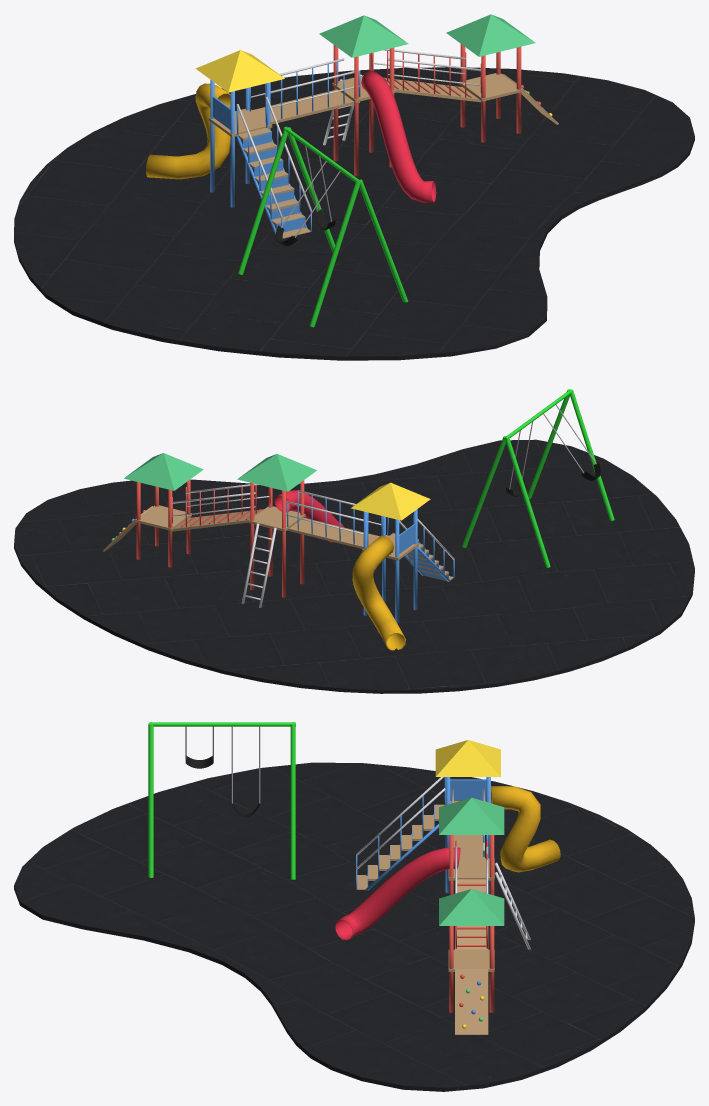
The model's file is JuegosConPiso.fbx.
3 renders of one model, top to bottom at view 1: azimuth 30°, elevation 25°; view 2: azimuth 150°, elevation 25°; view 3: azimuth 270°, elevation 25°, orthographic. The views are drawn at different scales.
Visible parts, largest first — view 1: Puente_AB_baluster; view 2: Puente_AB_baluster; view 3: Puente_AB_baluster.
Boxes of the visible parts, bbox=[...] form: Puente_AB_baluster: bbox=[14, 14, 694, 360]; Puente_AB_baluster: bbox=[14, 389, 694, 693]; Puente_AB_baluster: bbox=[14, 722, 694, 1091].
Size of the model in its own units: 2072 by 467 by 1843.
